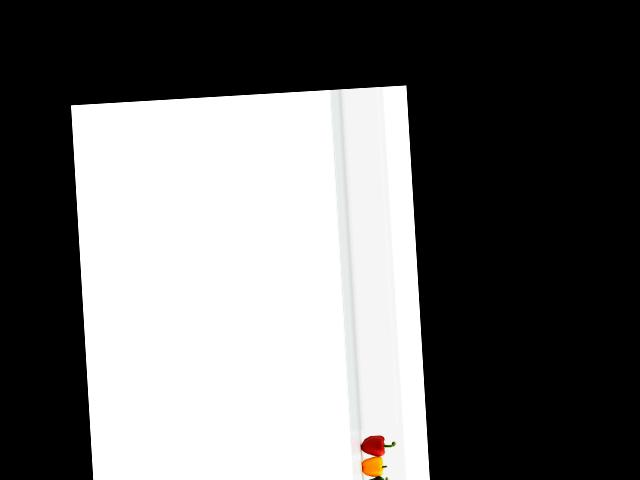bell_pepper: (356, 428, 398, 459)
